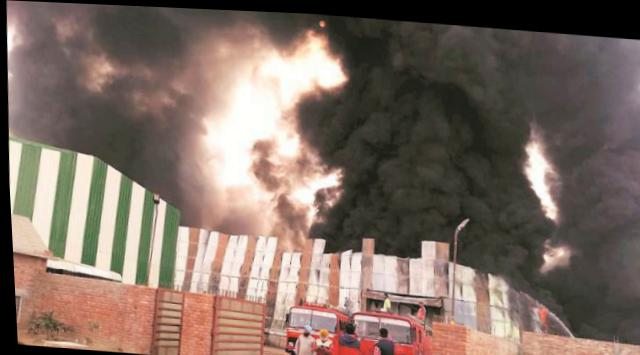fire: (198, 116, 249, 181), (248, 117, 298, 153), (288, 46, 321, 89), (233, 81, 262, 115), (529, 141, 543, 190)
smoke: (337, 12, 525, 234), (552, 120, 639, 337), (518, 25, 639, 125), (15, 1, 73, 135), (66, 88, 156, 171), (107, 4, 174, 95), (449, 237, 522, 274), (170, 6, 239, 43), (301, 90, 342, 146), (267, 9, 320, 48), (369, 225, 416, 252), (316, 202, 343, 234), (524, 268, 554, 295), (526, 199, 541, 252)
